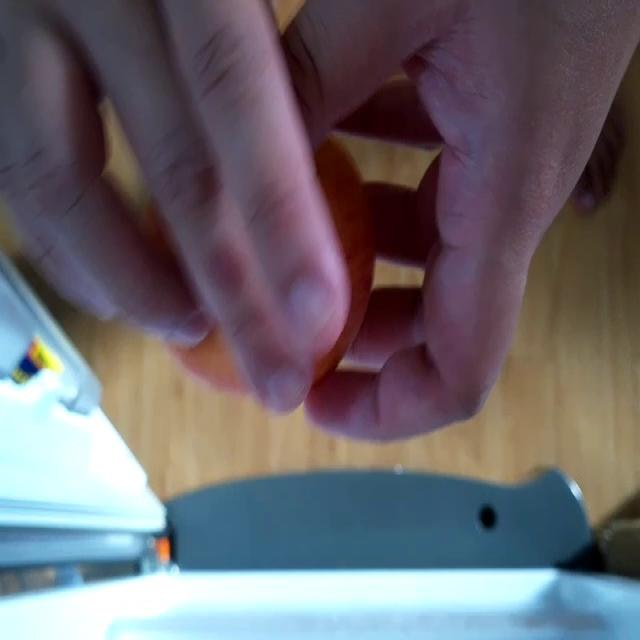apple: (152, 127, 376, 390)
